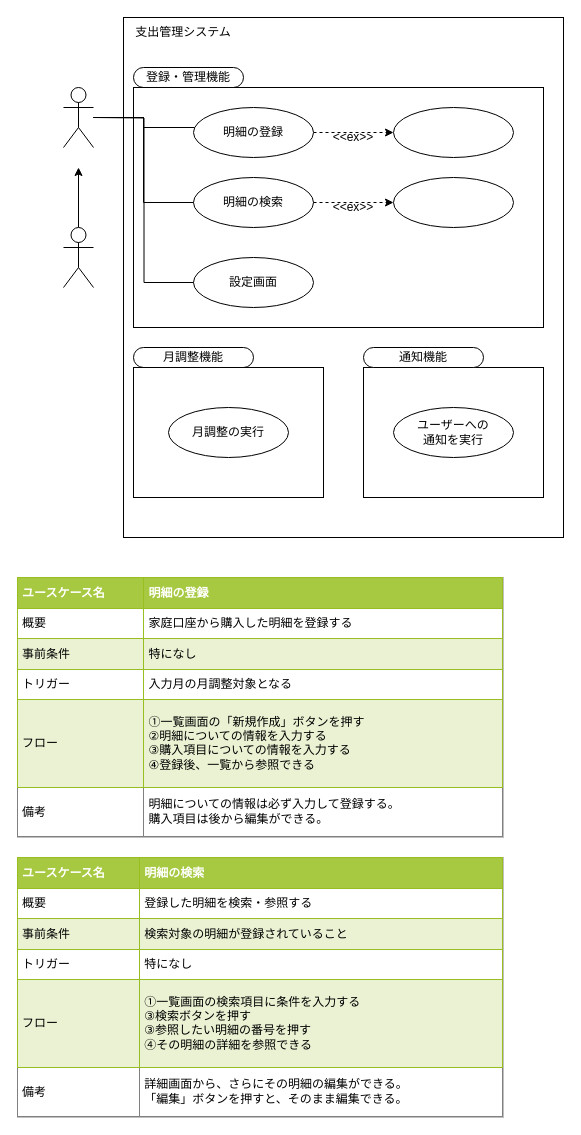
Some shapes in this 581 by 1135 pixel diagram are drawn without their labels. The centre of each missing label's shape, as x and y in pixels:
"利用者" goes at [78,117].
"明細の編集" goes at [453,202].
"登録ユーザー" goes at [78,257].
"購入項目の登録" goes at [453,132].
